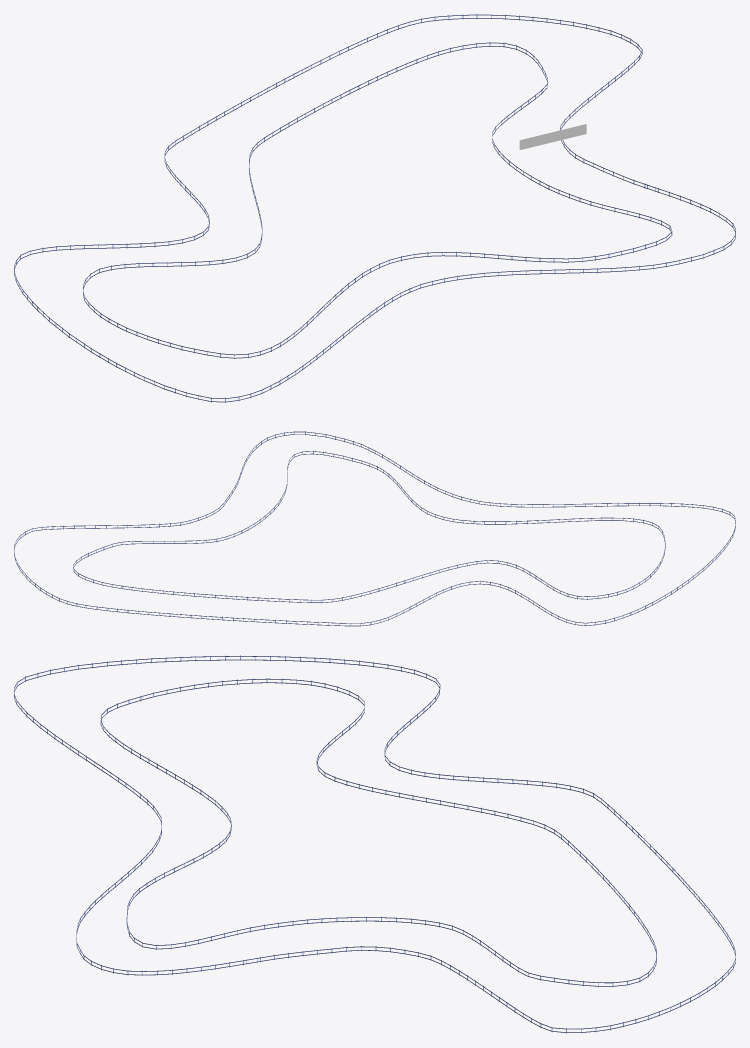
The model's file is track.glb.
3 views of the same model, one above another, from view 1: azimuth 30°, elevation 25°; view 2: azimuth 150°, elevation 25°; view 3: azimuth 270°, elevation 25° (orthographic). The views are drawn at different scales.
Visible parts, largest first — view 1: outerFence, innerFence, Plane; view 2: outerFence, innerFence; view 3: outerFence, innerFence.
Boxes of the visible parts, <box> form: outerFence: <box>14,14,735,402</box>; innerFence: <box>83,42,672,358</box>; Plane: <box>519,124,586,149</box>; outerFence: <box>14,431,735,626</box>; innerFence: <box>73,450,665,602</box>; outerFence: <box>14,655,735,1033</box>; innerFence: <box>100,678,656,986</box>.
Size of the model in its own units: 151 by 6.69 by 123.
